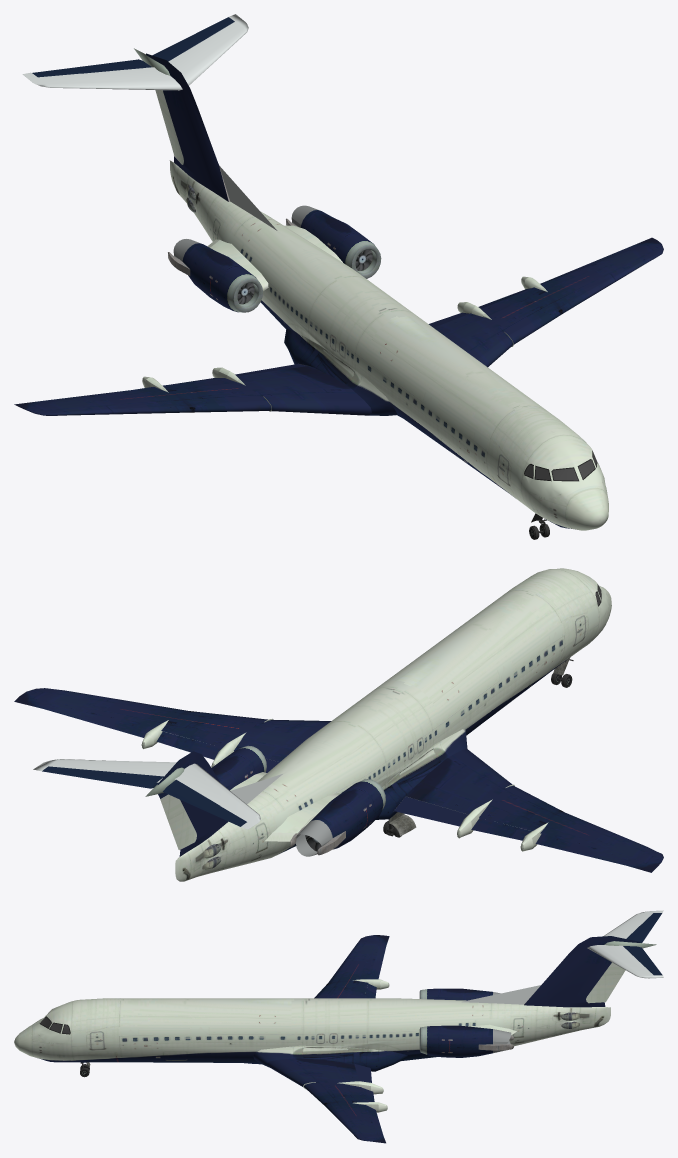
File: Airplane.FBX
The picture shows the model from 3 angles, top to bottom: view 1: azimuth 30°, elevation 25°; view 2: azimuth 150°, elevation 25°; view 3: azimuth 270°, elevation 25°; orthographic projection. The views are drawn at different scales.
Parts seen in each view (by area): view 1: Body, Elevator_L, Elevator_R; view 2: Body, Elevator_L, Rudder, Elevator_R, Aileron_R, Wheel_BR; view 3: Body, Rudder, Elevator_R, Elevator_L.
Boxes of the visible parts, <box> form: Body: <box>14,14,663,530</box>; Elevator_L: <box>152,17,234,61</box>; Elevator_R: <box>32,59,151,77</box>; Body: <box>14,568,663,881</box>; Elevator_L: <box>42,766,163,788</box>; Rudder: <box>160,794,196,849</box>; Elevator_R: <box>163,779,246,826</box>; Aileron_R: <box>394,796,467,826</box>; Wheel_BR: <box>383,812,416,837</box>; Body: <box>14,910,663,1143</box>; Rudder: <box>586,962,625,1003</box>; Elevator_R: <box>626,913,661,942</box>; Elevator_L: <box>623,946,662,975</box>.
Bounding box in the file's own units: 468 × 142 × 594.
